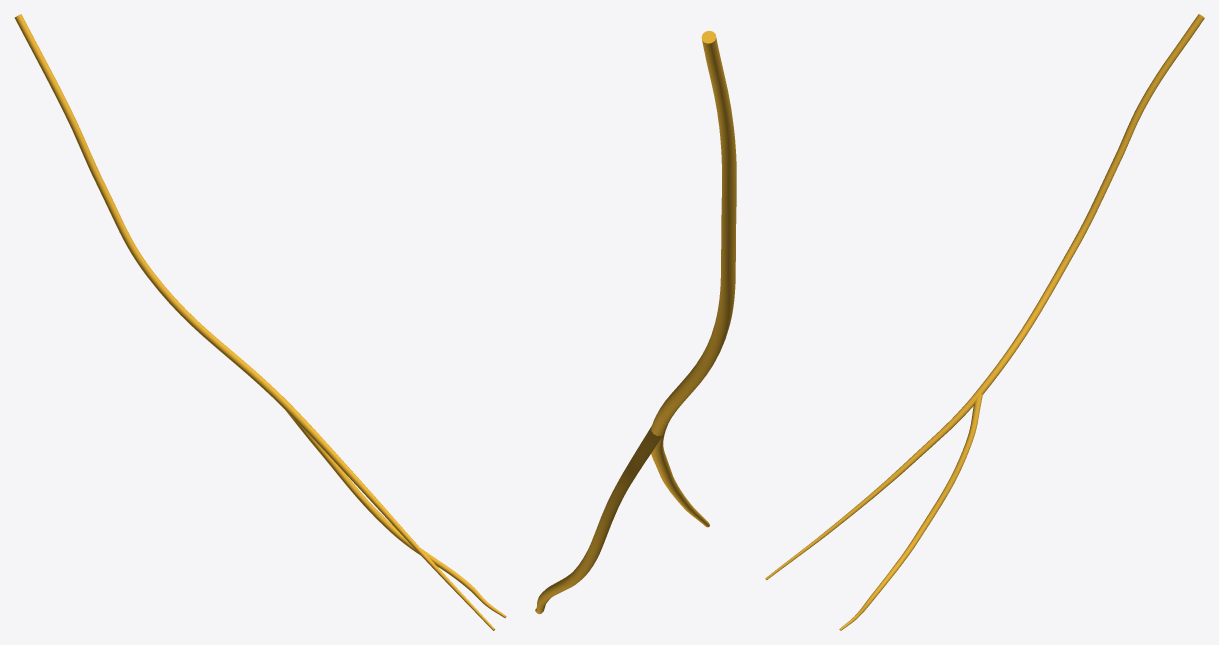
The model's file is nervoso-nerve-to-mylohyoid-muscle-r.glb.
The picture shows the model from 3 angles, left to right: view 1: azimuth 30°, elevation 25°; view 2: azimuth 150°, elevation 25°; view 3: azimuth 270°, elevation 25°; orthographic projection. The views are drawn at different scales.
Visible parts, largest first — view 1: Nerve to mylohyoid muscle.r; view 2: Nerve to mylohyoid muscle.r; view 3: Nerve to mylohyoid muscle.r.
Part boxes in pixels (<box>): Nerve to mylohyoid muscle.r: <box>14,14,506,630</box>; Nerve to mylohyoid muscle.r: <box>535,30,736,614</box>; Nerve to mylohyoid muscle.r: <box>765,14,1204,630</box>.
Bounding box in the file's own units: 0.0251 × 0.0432 × 0.0354.
